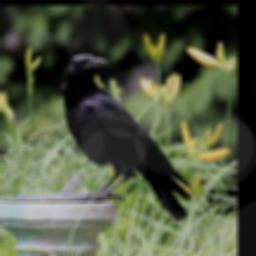Crow: (60, 53, 198, 222)
